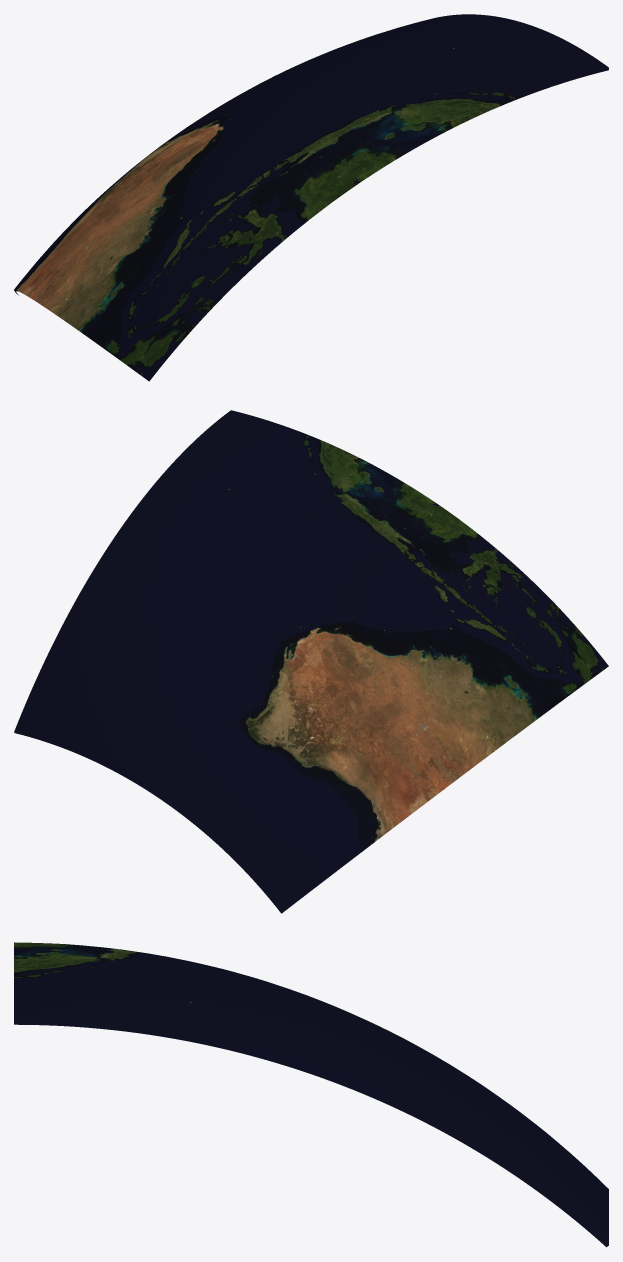
The picture shows the model from 3 angles, top to bottom: view 1: azimuth 30°, elevation 25°; view 2: azimuth 150°, elevation 25°; view 3: azimuth 270°, elevation 25°; orthographic projection. The views are drawn at different scales.
Visible parts, largest first — view 1: DefaultName.009, DefaultName.012, DefaultName.006, DefaultName.003; view 2: DefaultName.006, DefaultName.009, DefaultName.003, DefaultName.012; view 3: DefaultName.012, DefaultName.003, DefaultName.009.
Boxes of the visible parts, box(x1,y1,x2,y2) form: DefaultName.009: box(39, 119, 359, 381); DefaultName.012: box(235, 14, 608, 182); DefaultName.006: box(14, 117, 234, 303); DefaultName.003: box(192, 14, 464, 123); DefaultName.006: box(159, 624, 462, 913); DefaultName.009: box(303, 502, 608, 774); DefaultName.003: box(14, 538, 302, 797); DefaultName.012: box(114, 410, 435, 623); DefaultName.012: box(14, 943, 335, 1082); DefaultName.003: box(334, 1007, 608, 1247); DefaultName.009: box(14, 942, 335, 1006).
Size of the model in its own units: 45100 by 31962 by 44873.
4 materials, 4 textured.
